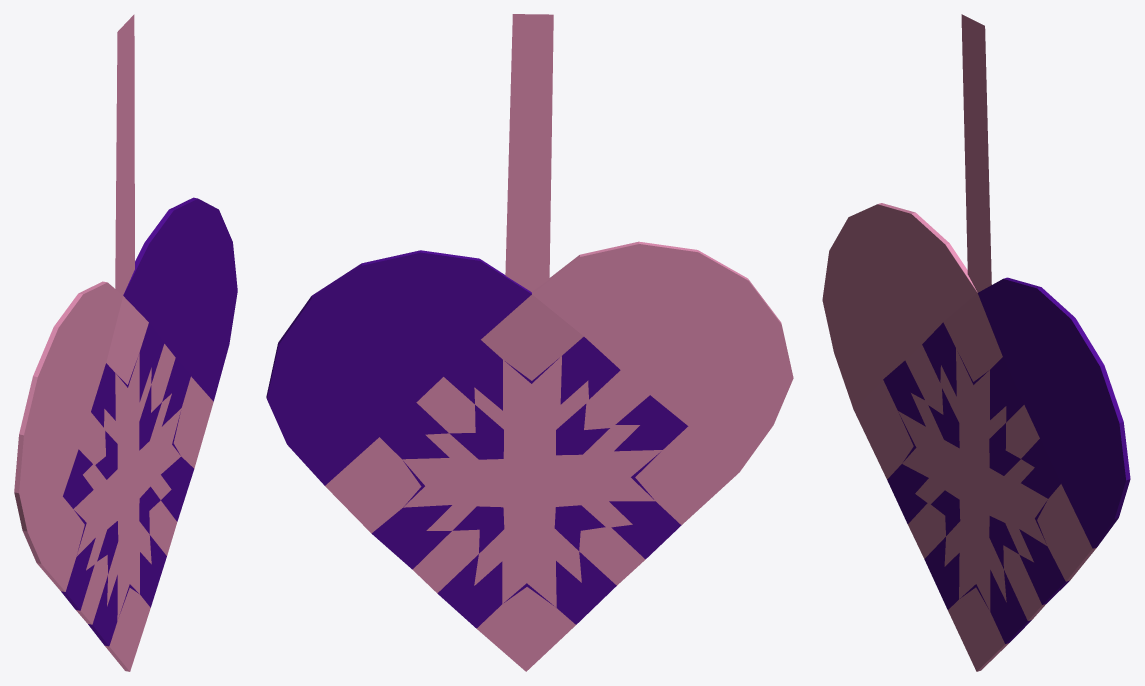
File: heart24.glb
The picture shows the model from 3 angles, left to right: view 1: azimuth 30°, elevation 25°; view 2: azimuth 150°, elevation 25°; view 3: azimuth 270°, elevation 25°; orthographic projection.
Parts seen in each view (by area): view 1: heart24; view 2: heart24; view 3: heart24.
Boxes of the visible parts, x1,y1,x2,y2 form: heart24: (14, 14, 237, 671); heart24: (266, 14, 793, 671); heart24: (822, 14, 1130, 671).
Bounding box in the file's own units: 0.1121 × 0.187 × 0.0803.
